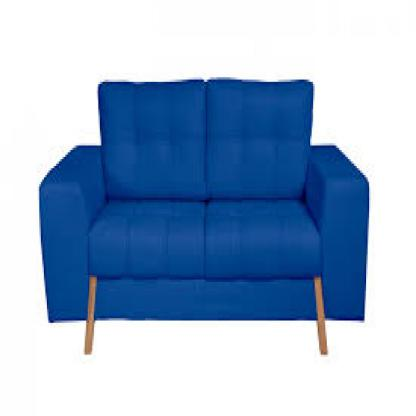sofa: (29, 66, 375, 366)
